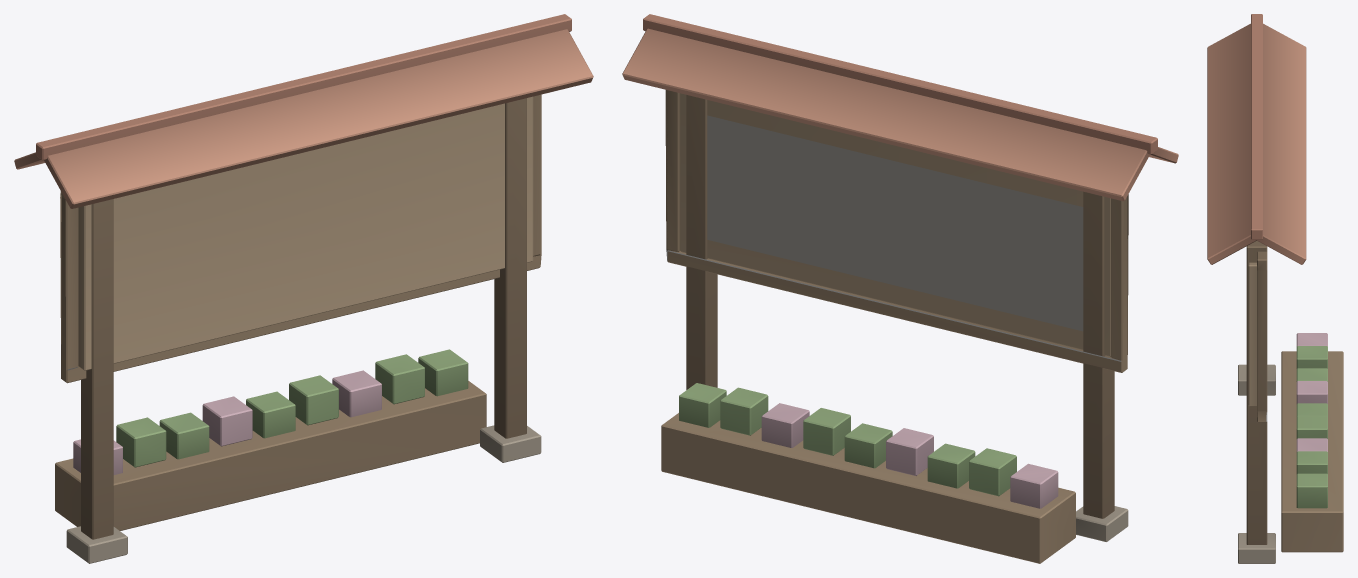
File: sign_stand.glb
3 renders of one model, left to right at view 1: azimuth 30°, elevation 25°; view 2: azimuth 150°, elevation 25°; view 3: azimuth 270°, elevation 25°, orthographic. The views are drawn at different scales.
Size of the model in its own units: 2.95 by 2.23 by 0.7855.
